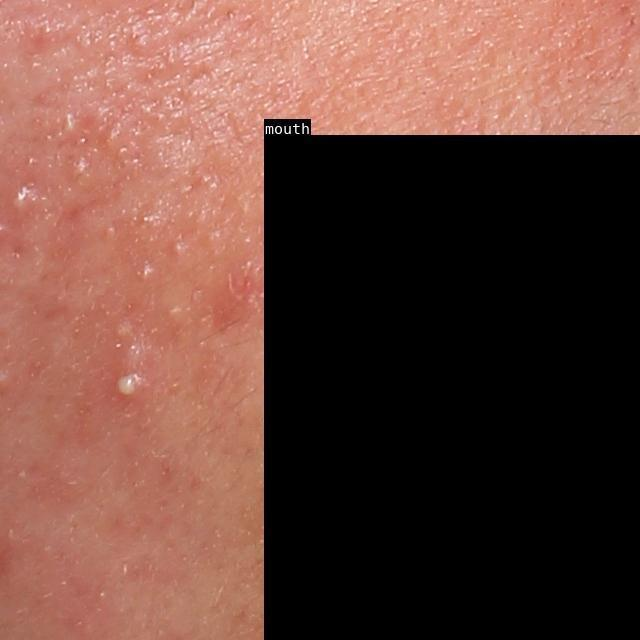comedo: (109, 319, 137, 343), (163, 301, 185, 331), (167, 238, 189, 264), (134, 259, 154, 287)
pustule: (114, 370, 139, 400)
